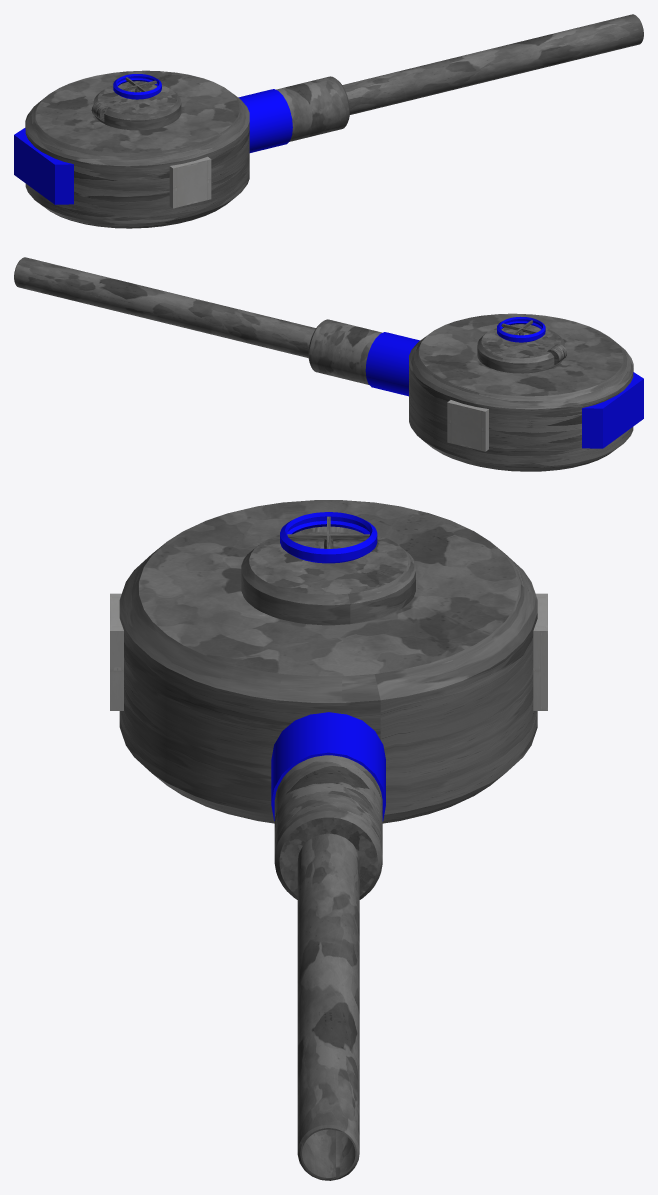
The model's file is tank_top_blender_player.glb.
3 renders of one model, top to bottom at view 1: azimuth 30°, elevation 25°; view 2: azimuth 150°, elevation 25°; view 3: azimuth 270°, elevation 25°, orthographic. The views are drawn at different scales.
Parts seen in each view (by area): view 1: pCylinder36; view 2: pCylinder36; view 3: pCylinder36.
Part boxes in pixels (x1=…): pCylinder36: x1=14, y1=14, x2=643, y2=228; pCylinder36: x1=14, y1=257, x2=643, y2=471; pCylinder36: x1=110, y1=500, x2=547, y2=1180.
Size of the model in its own units: 7.46 by 1.23 by 2.35.
Materials: 4 (3 with a texture image).
